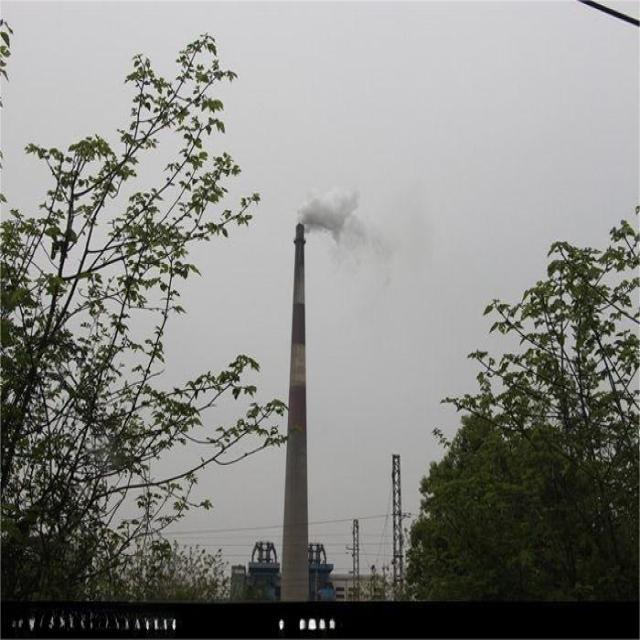Smoke: (299, 183, 382, 260)
